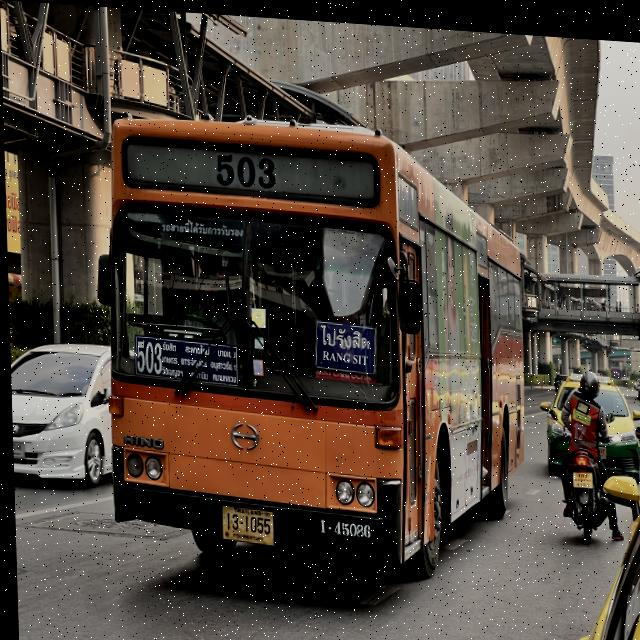BMTA-bus: (85, 98, 534, 585)
Bus Line Number: (206, 144, 287, 192)
Bus Side Number: (310, 506, 376, 539)
Destination Sign: (312, 314, 376, 370)
